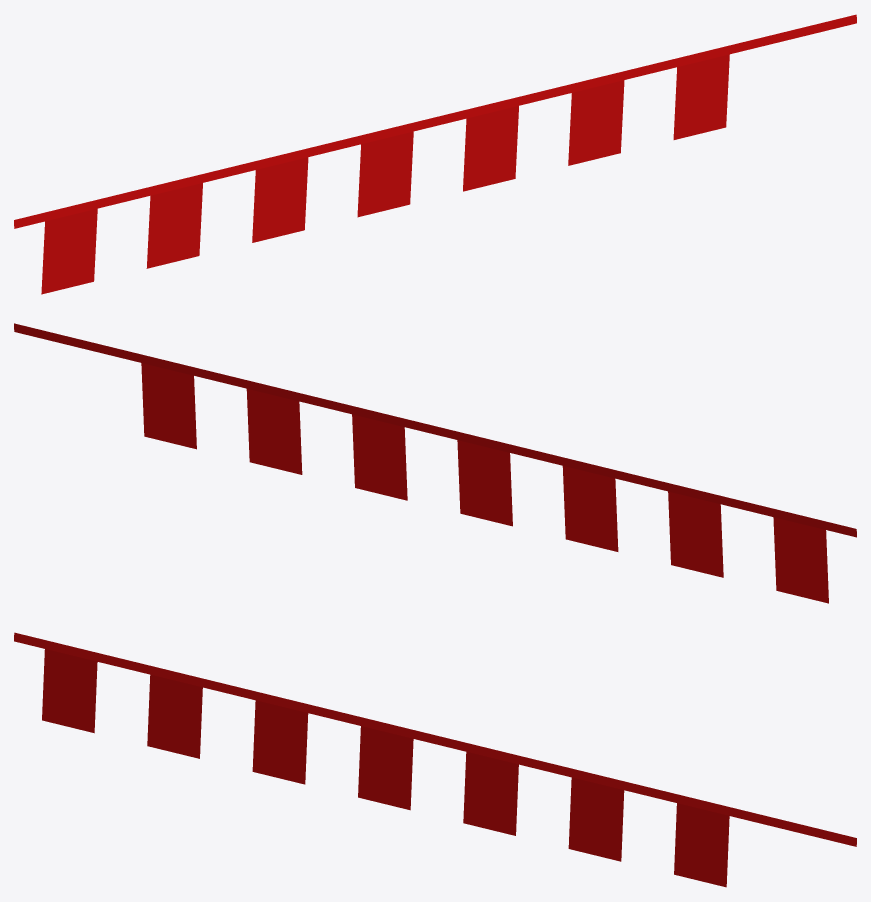
Rendered from flag2.fbx.
3 renders of one model, top to bottom at view 1: azimuth 30°, elevation 25°; view 2: azimuth 150°, elevation 25°; view 3: azimuth 330°, elevation 25°, orthographic.
Visible parts, largest first — view 1: Plane; view 2: Plane; view 3: Plane.
Boxes of the visible parts, x1=… form: Plane: x1=14, y1=14, x2=856, y2=294; Plane: x1=14, y1=323, x2=856, y2=603; Plane: x1=14, y1=632, x2=856, y2=887.
Size of the model in its own units: 1395 by 129 by 1.04.
